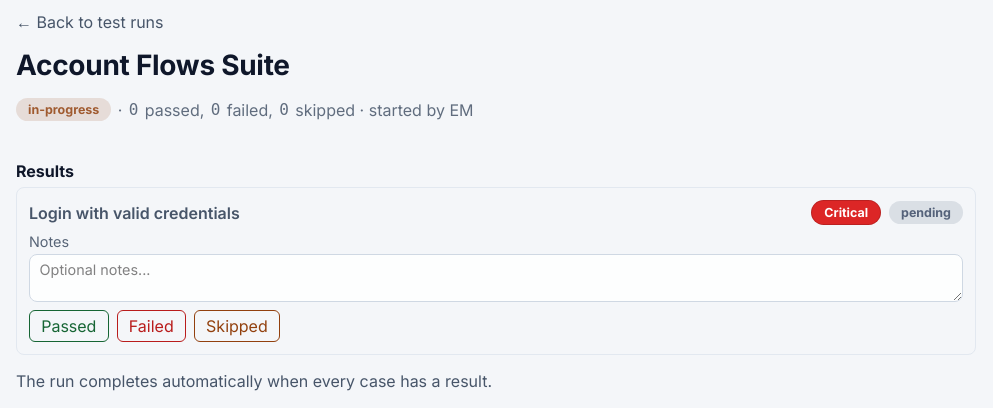
Scenario: TestRunDetailPage › saves an outcome with trimmed notes and refreshes the run
Expected: the heading "Account Flows Suite" is shown, [16,48,290,82]
Type "  Observed on Safari  " into the text box labelled "Notes".
click(496, 278); type("  Observed on Safari  ")  # box [29,254,963,302]
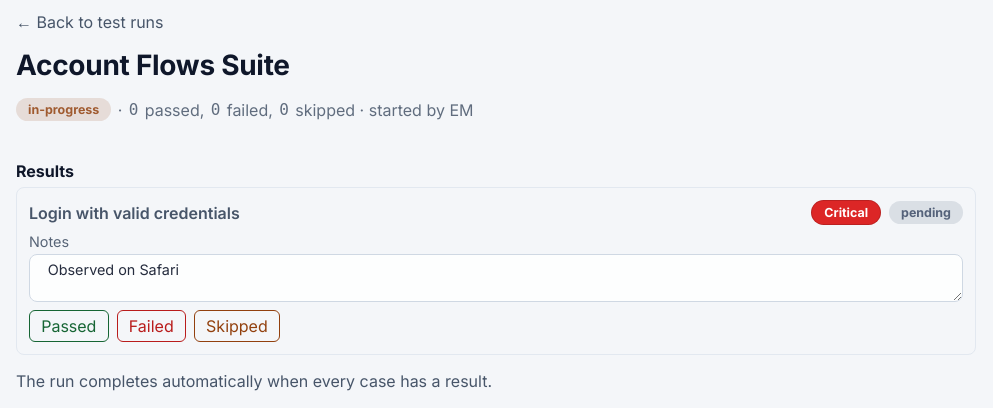
Click the button "Failed".
click(151, 326)  # box [117,310,186,342]
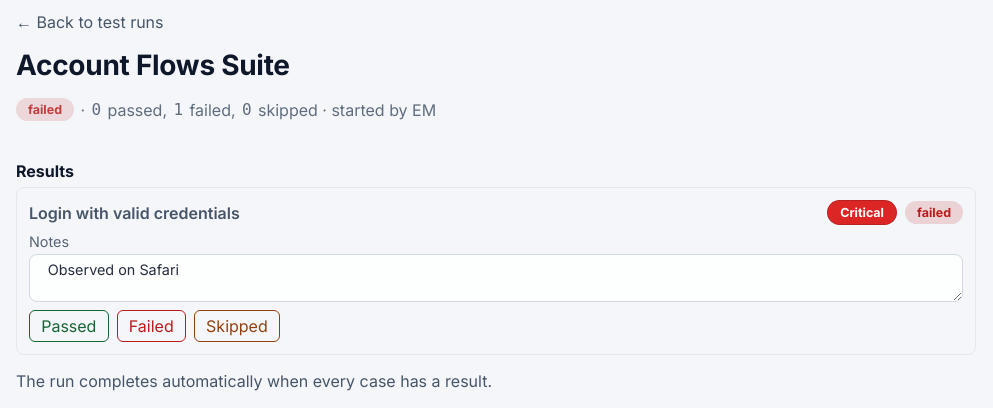
Expected: the element with class "run-meta-line" shows "0 passed, 1 failed", [16,98,436,121]
